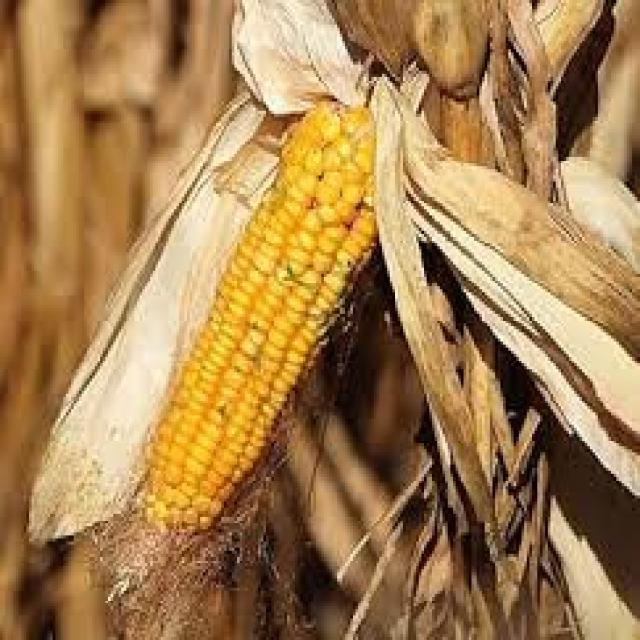purecorn: (103, 71, 424, 598)
